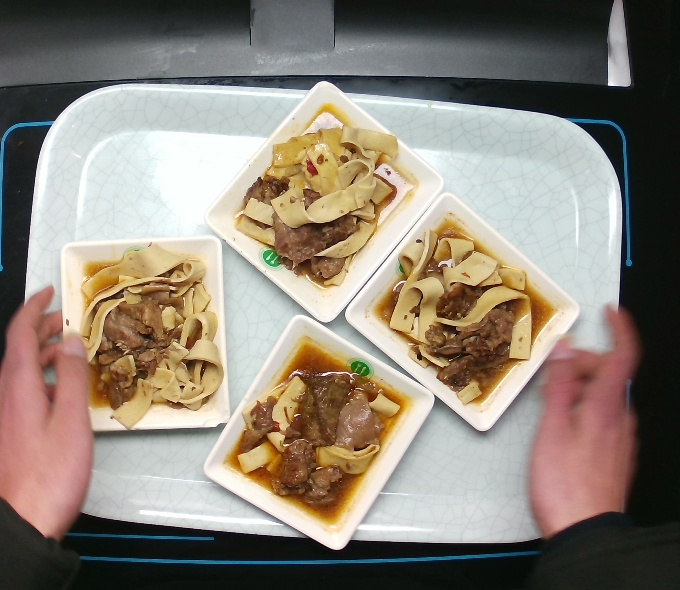wcq-QianZhangNiuNan: (377, 218, 544, 412), (230, 119, 406, 291), (73, 240, 228, 434), (229, 356, 408, 512)
